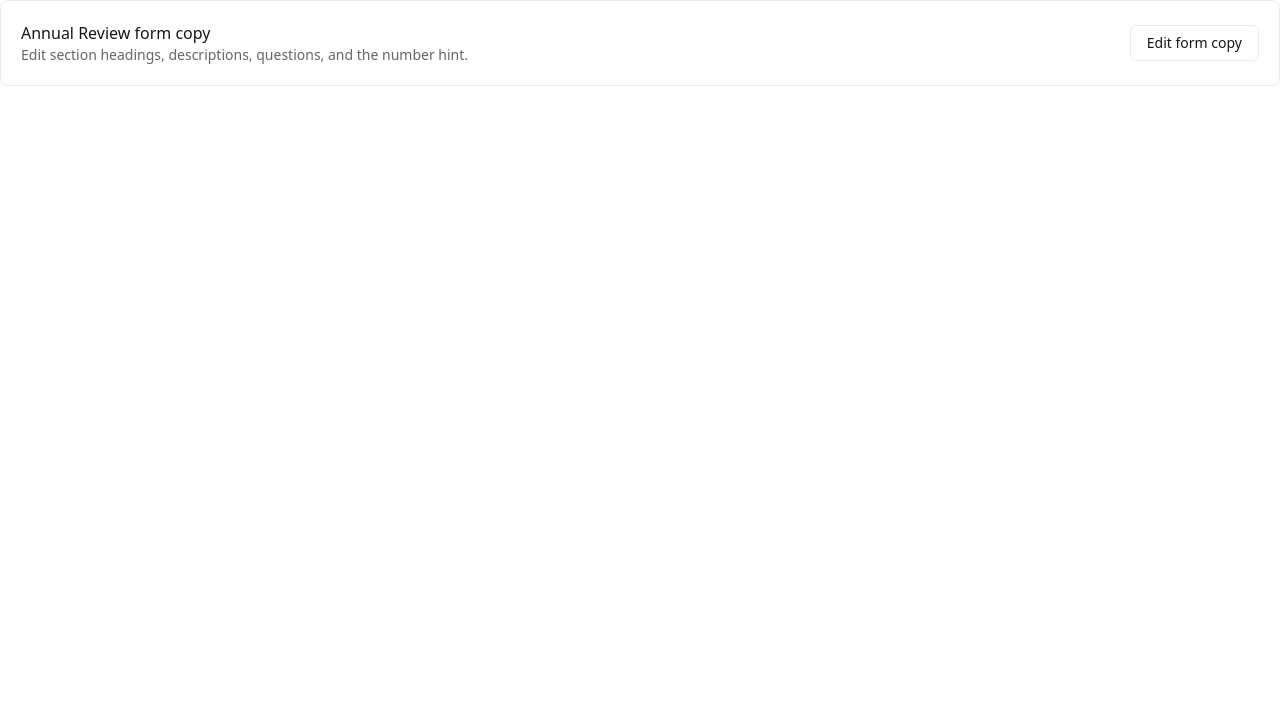
AnnualReviewCopyEditor › reloads the latest copy after a version conflict
Click the button "Edit form copy".
click(1194, 43)  # box [1130,25,1259,61]
(page scrolled)
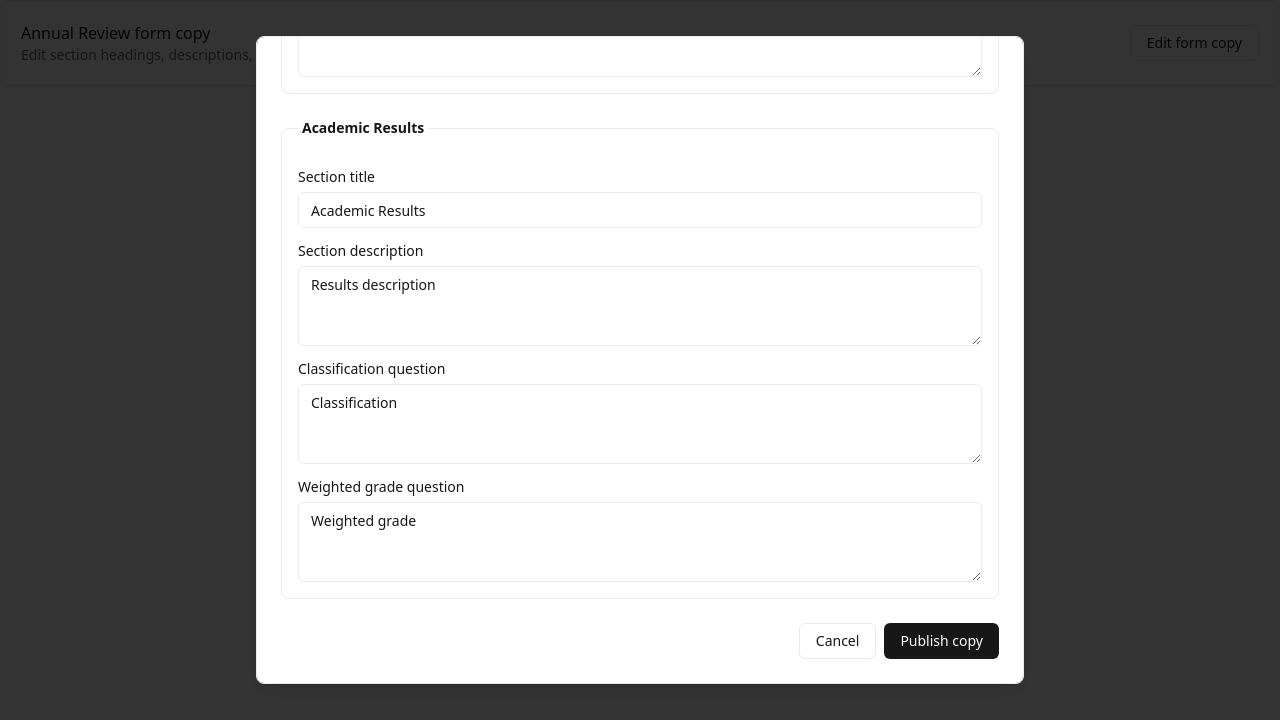
Click the button "Publish copy".
click(942, 641)  # box [884,623,999,659]
(page scrolled)
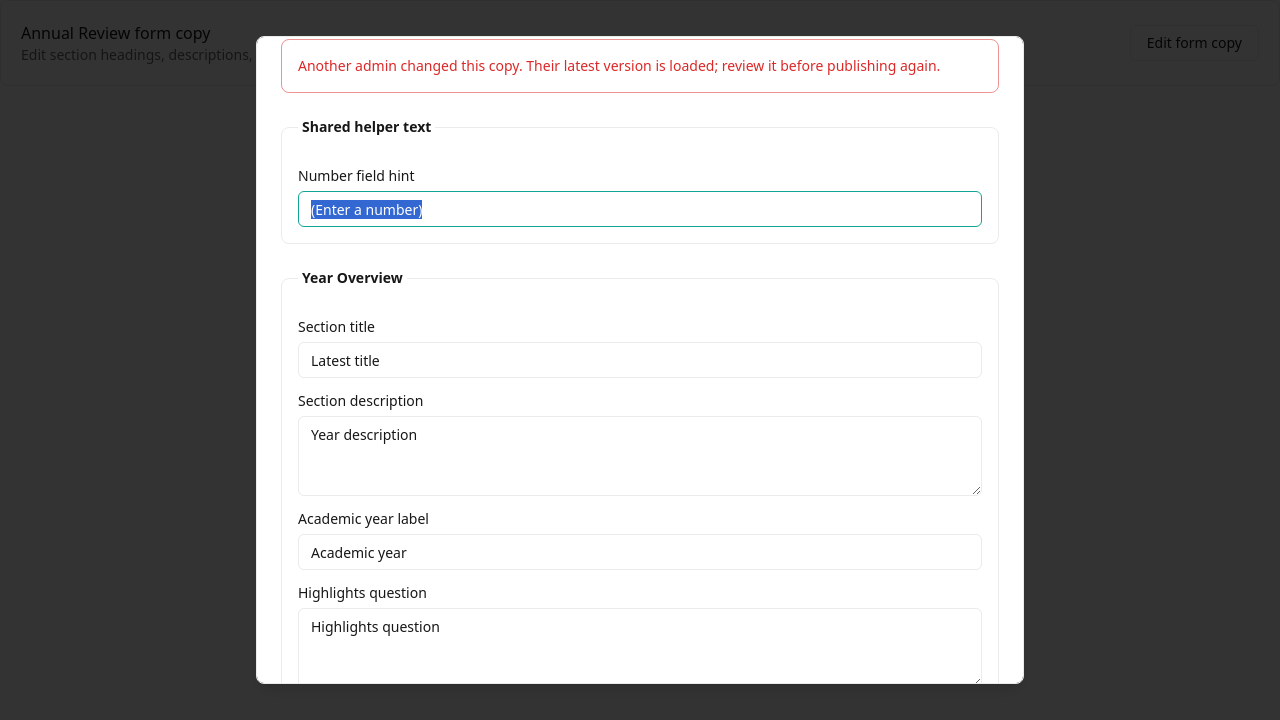
Expected: the text "Their latest version is loaded" is shown, [298,56,940,75]
Expected: the field labelled "Section title" holds "Latest title", [298,342,982,378]
